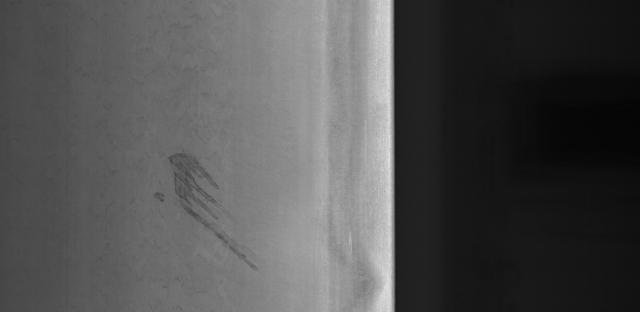water_spot: (140, 140, 263, 276)
